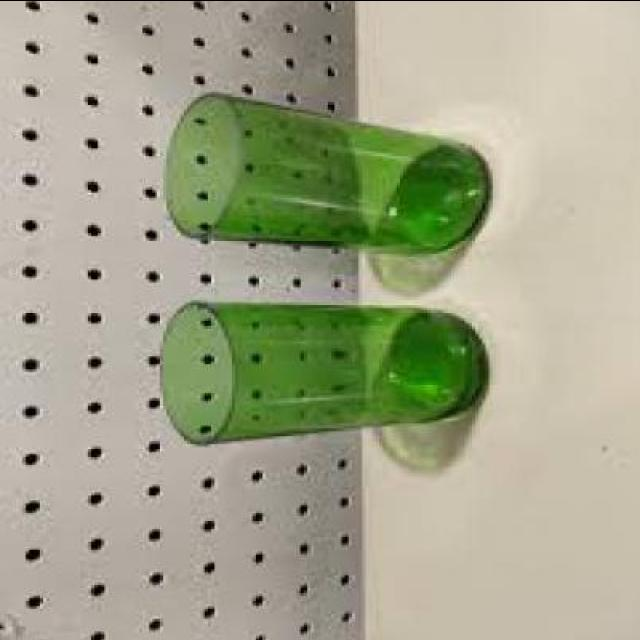kaca: (160, 93, 485, 255), (156, 302, 482, 448)
